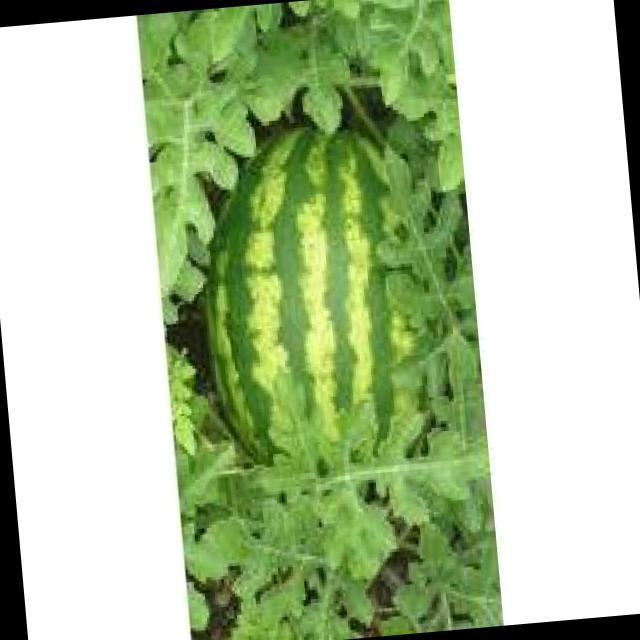watermelon: (207, 123, 393, 476)
